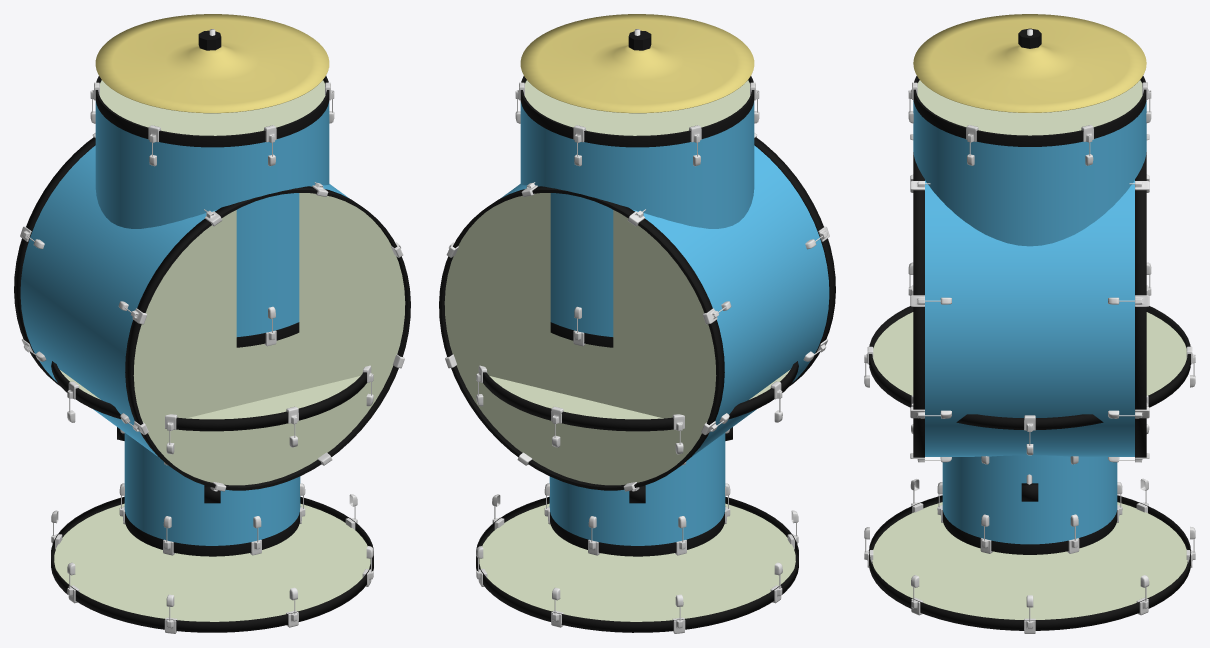
File: Drum Kit Upload.fbx
3 renders of one model, left to right at view 1: azimuth 30°, elevation 25°; view 2: azimuth 150°, elevation 25°; view 3: azimuth 270°, elevation 25°, orthographic.
Visible parts, largest first — view 1: Bass Drum, Floor Tom, Rims, Cymbal, Rack Tom Large, Grips; view 2: Bass Drum, Floor Tom, Rims, Cymbal, Rack Tom Large, Grips; view 3: Bass Drum, Rims, Floor Tom, Cymbal, Rack Tom Large, Grips.
Boxes of the visible parts, <box> form: Bass Drum: <box>14,133,410,491</box>; Floor Tom: <box>90,76,334,347</box>; Rims: <box>51,361,373,632</box>; Cymbal: <box>95,14,329,113</box>; Rack Tom Large: <box>119,429,305,556</box>; Grips: <box>51,365,373,633</box>; Bass Drum: <box>439,133,835,491</box>; Floor Tom: <box>515,76,759,347</box>; Rims: <box>476,361,798,632</box>; Cymbal: <box>520,14,754,113</box>; Rack Tom Large: <box>544,429,730,556</box>; Grips: <box>476,365,798,633</box>; Bass Drum: <box>910,134,1149,462</box>; Rims: <box>869,306,1190,630</box>; Floor Tom: <box>908,76,1151,295</box>; Cymbal: <box>913,14,1146,112</box>; Rack Tom Large: <box>937,455,1122,554</box>; Grips: <box>864,346,1195,633</box>.
Bounding box in the file's own units: 56.87 × 101 × 56.87.
